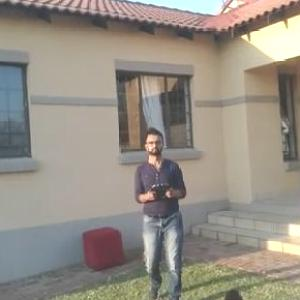follow: (128, 123, 192, 299)
